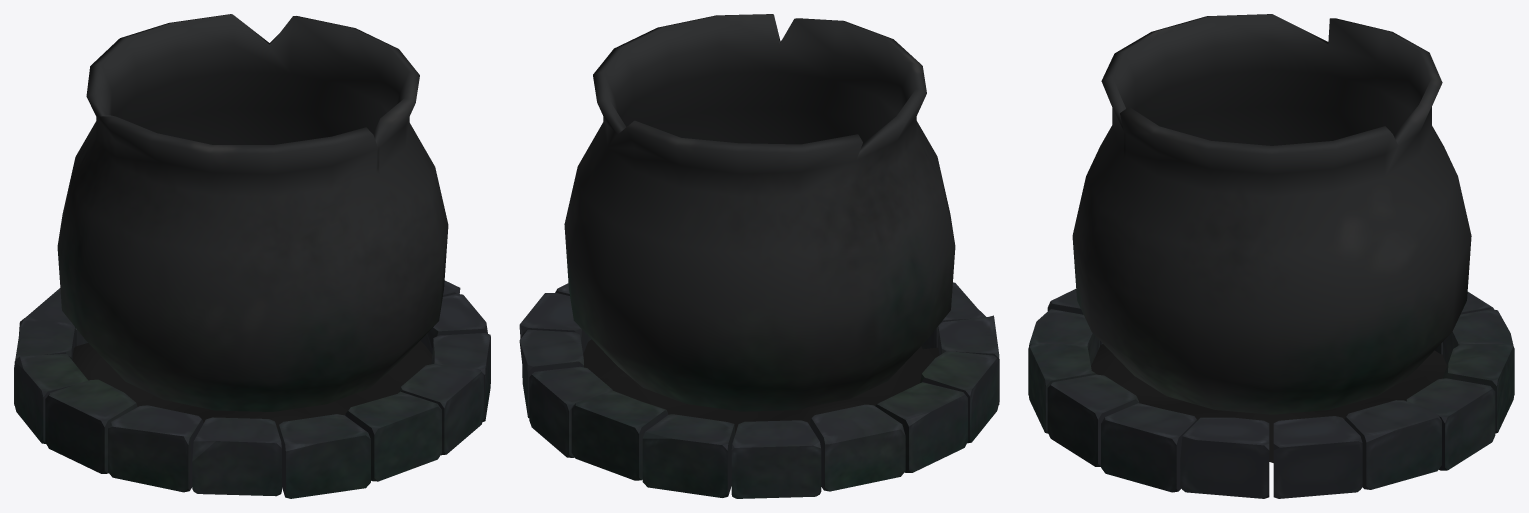
The model's file is main_kettle.obj.
3 renders of one model, left to right at view 1: azimuth 30°, elevation 25°; view 2: azimuth 150°, elevation 25°; view 3: azimuth 270°, elevation 25°, orthographic.
Parts seen in each view (by area): view 1: main_kettle_Sphere.001, fire_stones_Cylinder.003, ash1_Plane.001; view 2: main_kettle_Sphere.001, fire_stones_Cylinder.003, ash1_Plane.001; view 3: main_kettle_Sphere.001, fire_stones_Cylinder.003, ash1_Plane.001.
Boxes of the visible parts, <box> form: main_kettle_Sphere.001: <box>57,14,448,411</box>; fire_stones_Cylinder.003: <box>14,280,490,498</box>; ash1_Plane.001: <box>72,340,432,431</box>; main_kettle_Sphere.001: <box>564,14,955,411</box>; fire_stones_Cylinder.003: <box>519,282,999,498</box>; ash1_Plane.001: <box>583,339,939,434</box>; main_kettle_Sphere.001: <box>1072,14,1471,414</box>; fire_stones_Cylinder.003: <box>1028,289,1514,498</box>; ash1_Plane.001: <box>1091,344,1447,462</box>.
Bounding box in the file's own units: 0.8926 × 0.6516 × 0.8844.
Materials: 2 (2 with a texture image).
